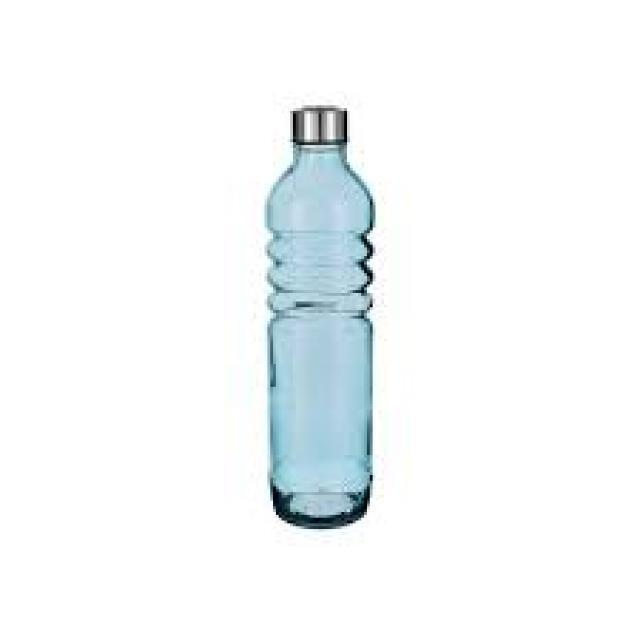Plastic: (258, 108, 380, 530)
